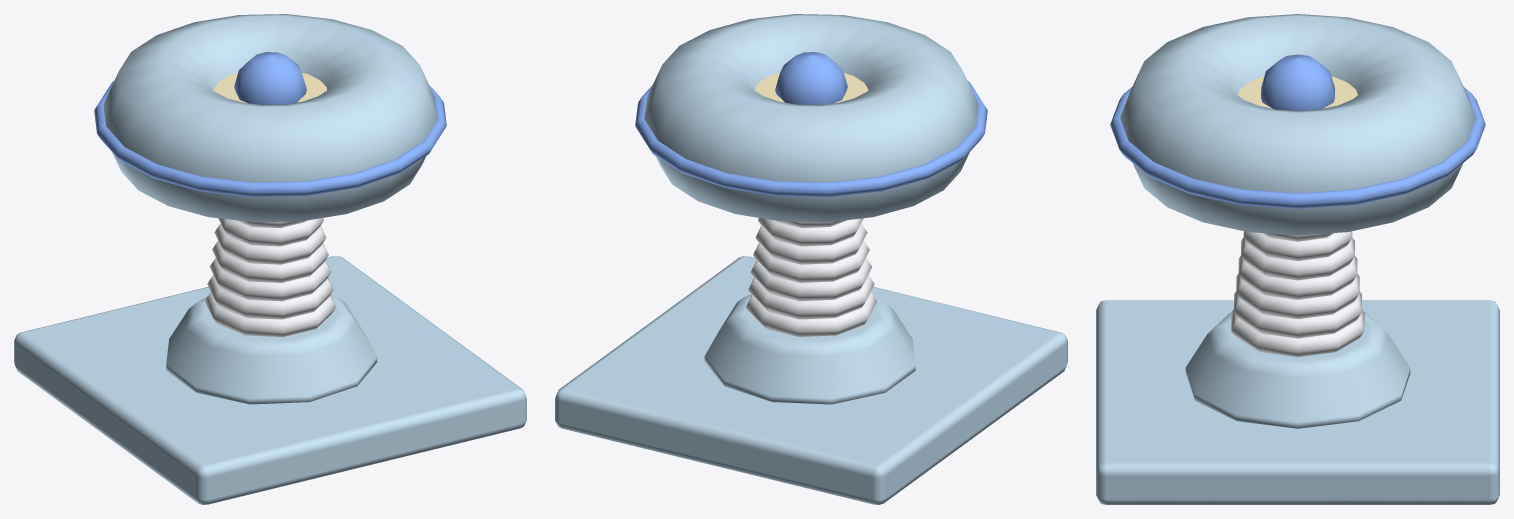
Rendered from R4X_AreaEMP.glb.
3 views of the same model, side by side, from view 1: azimuth 30°, elevation 25°; view 2: azimuth 150°, elevation 25°; view 3: azimuth 270°, elevation 25° (orthographic). The views are drawn at different scales.
Visible parts, largest first — view 1: R4X_AreaEMP_Body; view 2: R4X_AreaEMP_Body; view 3: R4X_AreaEMP_Body.
Boxes of the visible parts, left/top/right/bottom form: R4X_AreaEMP_Body: left=14, top=14, right=526, bottom=504; R4X_AreaEMP_Body: left=555, top=14, right=1067, bottom=504; R4X_AreaEMP_Body: left=1096, top=14, right=1499, bottom=504.
Size of the model in its own units: 0.52 by 0.52 by 0.52.
